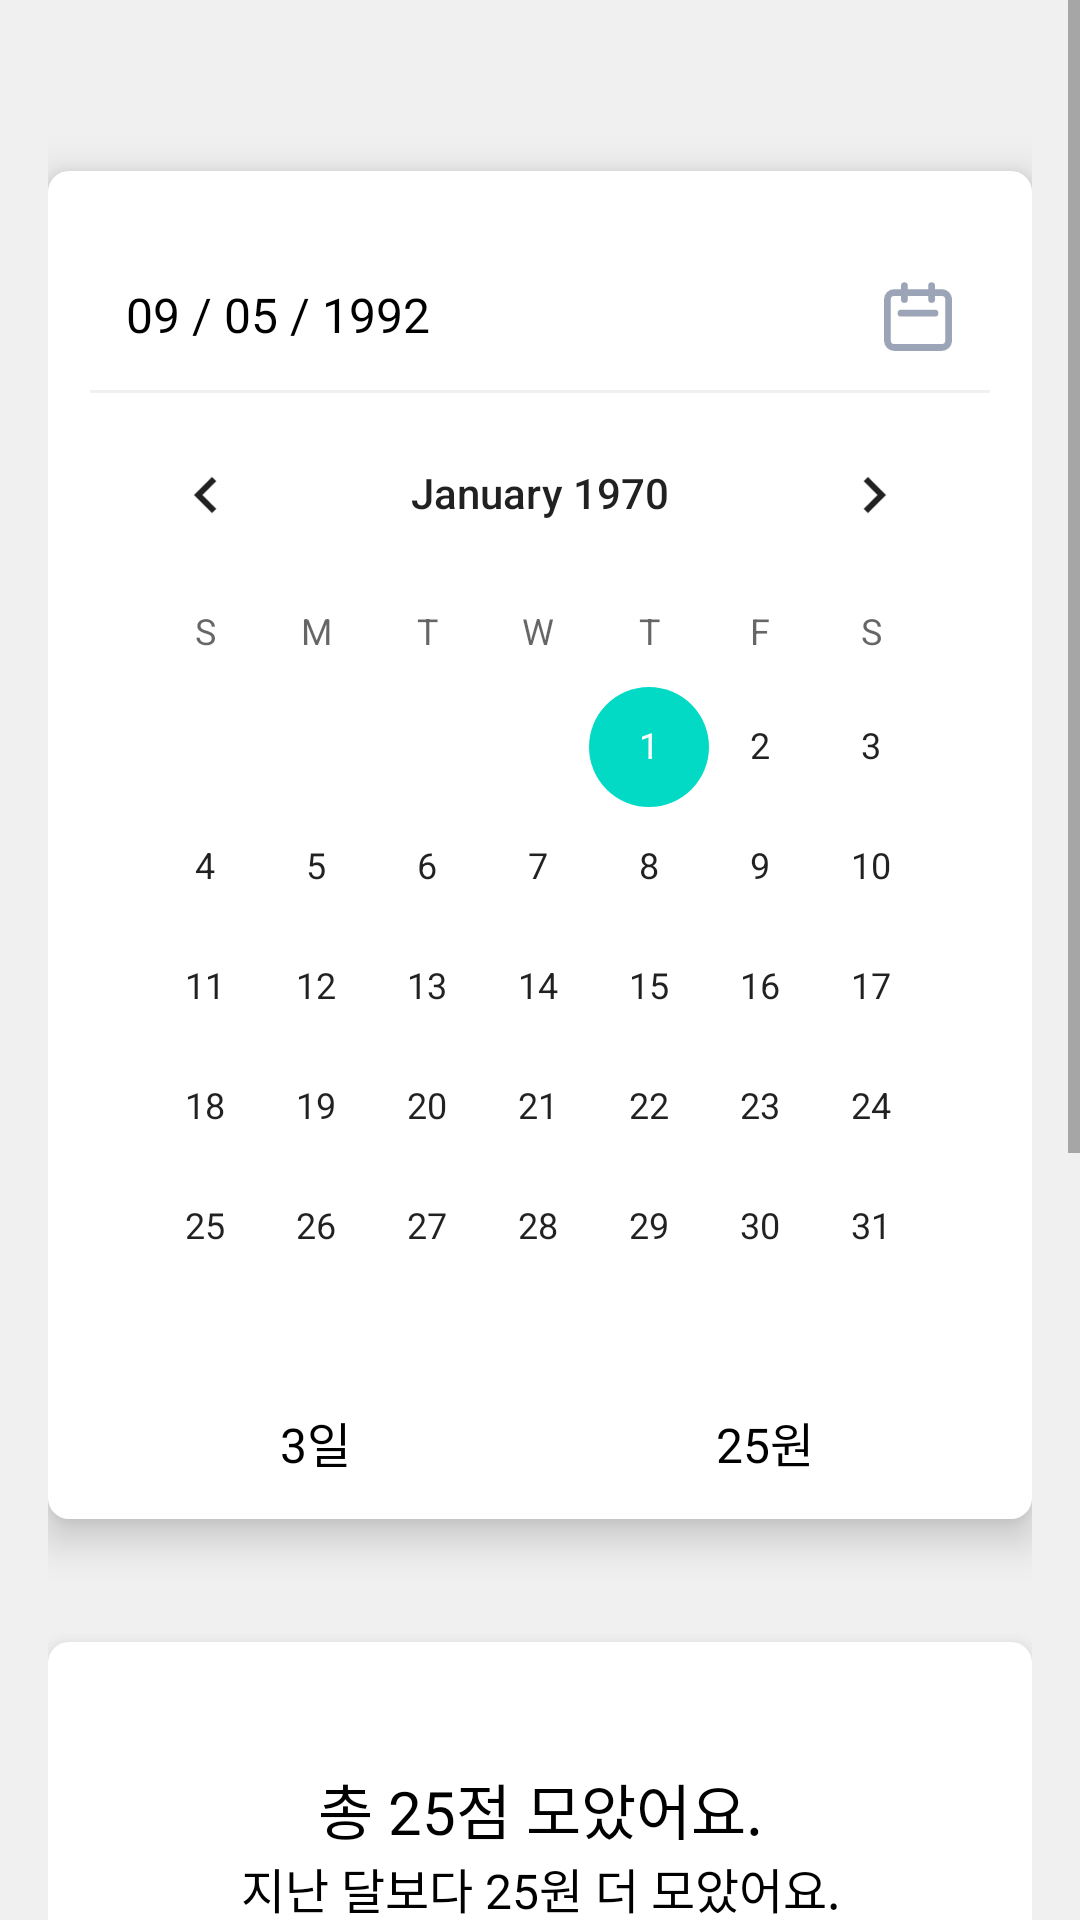

Screen size 1080px x 1920px. Icon name, then its center in pixels as [x,y]:
calendar: [918,316]
